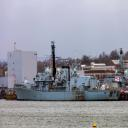Fragata: (13, 43, 123, 103)
